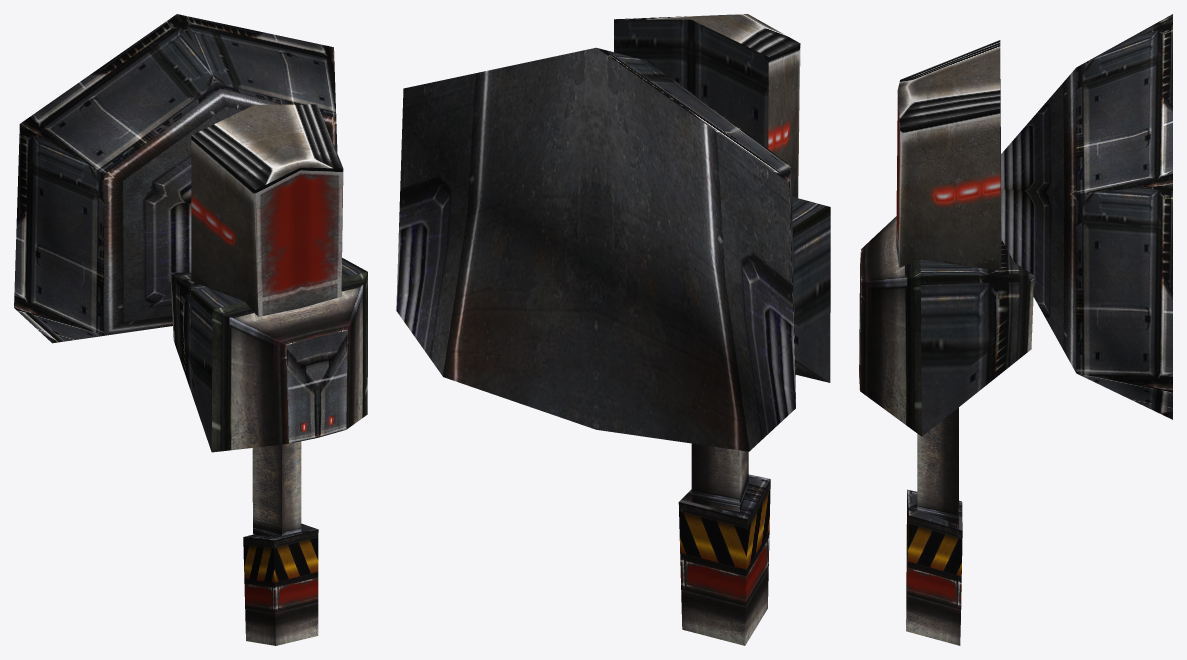
Rendered from turret-16.obj.
3 renders of one model, left to right at view 1: azimuth 30°, elevation 25°; view 2: azimuth 150°, elevation 25°; view 3: azimuth 270°, elevation 25°, orthographic. The views are drawn at different scales.
Parts seen in each view (by area): view 1: body, head, gun_01; view 2: body, head, gun_01; view 3: body, head, gun_01.
Part boxes in pixels (left/top/right/bottom): body: left=14, top=14, right=337, bottom=343; head: left=170, top=104, right=367, bottom=452; gun_01: left=243, top=441, right=318, bottom=645; body: left=396, top=47, right=795, bottom=451; head: left=614, top=14, right=830, bottom=382; gun_01: left=678, top=443, right=770, bottom=645; body: left=1001, top=14, right=1172, bottom=419; head: left=859, top=40, right=1033, bottom=436; gun_01: left=906, top=407, right=962, bottom=645.
Size of the model in its own units: 2.75 by 4.44 by 2.06.
Materials: 1 (1 with a texture image).
